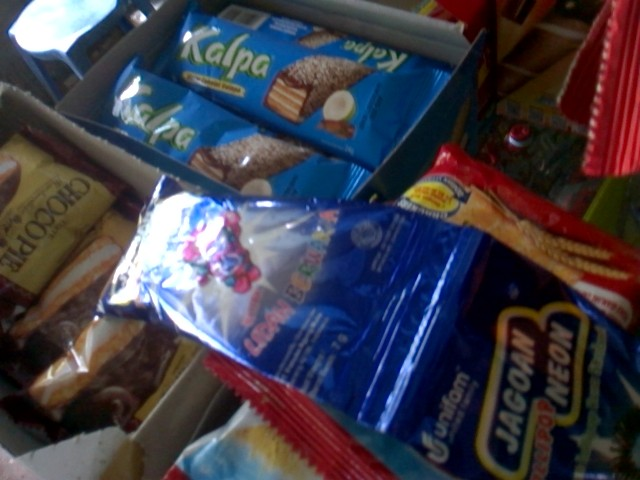jagoan neon: (361, 223, 640, 479)
